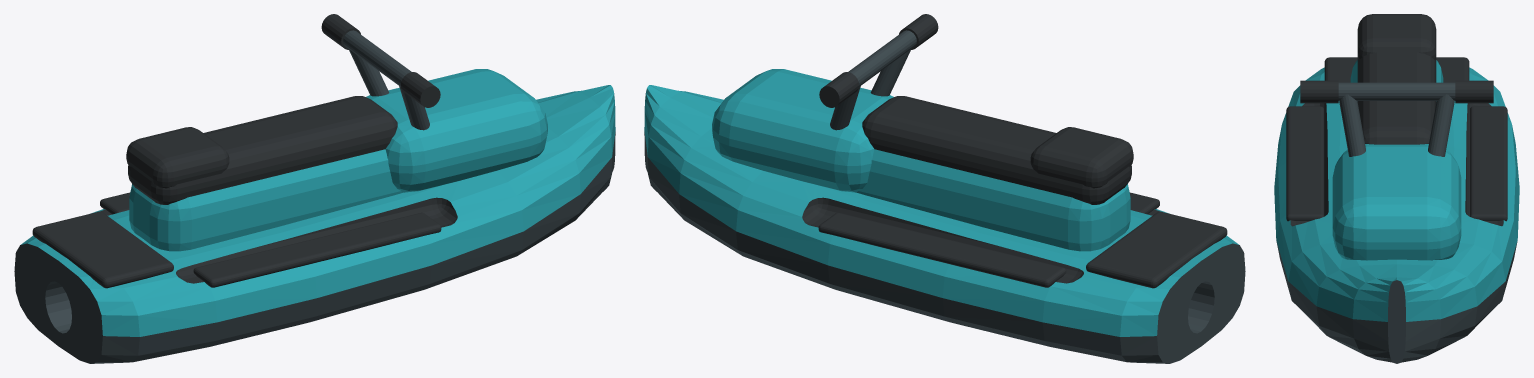
Rendered from NEW_RECOVERY_122_LOD0.glb.
3 views of the same model, side by side, from view 1: azimuth 30°, elevation 25°; view 2: azimuth 150°, elevation 25°; view 3: azimuth 270°, elevation 25° (orthographic). The views are drawn at different scales.
Parts seen in each view (by area): view 1: Generic personal watercraft solid; view 2: Generic personal watercraft solid; view 3: Generic personal watercraft solid.
Part boxes in pixels (bbox=[...]): Generic personal watercraft solid: bbox=[14, 14, 615, 363]; Generic personal watercraft solid: bbox=[644, 14, 1245, 363]; Generic personal watercraft solid: bbox=[1274, 14, 1519, 363].
Bounding box in the file's own units: 3.1 × 1.17 × 1.22.
